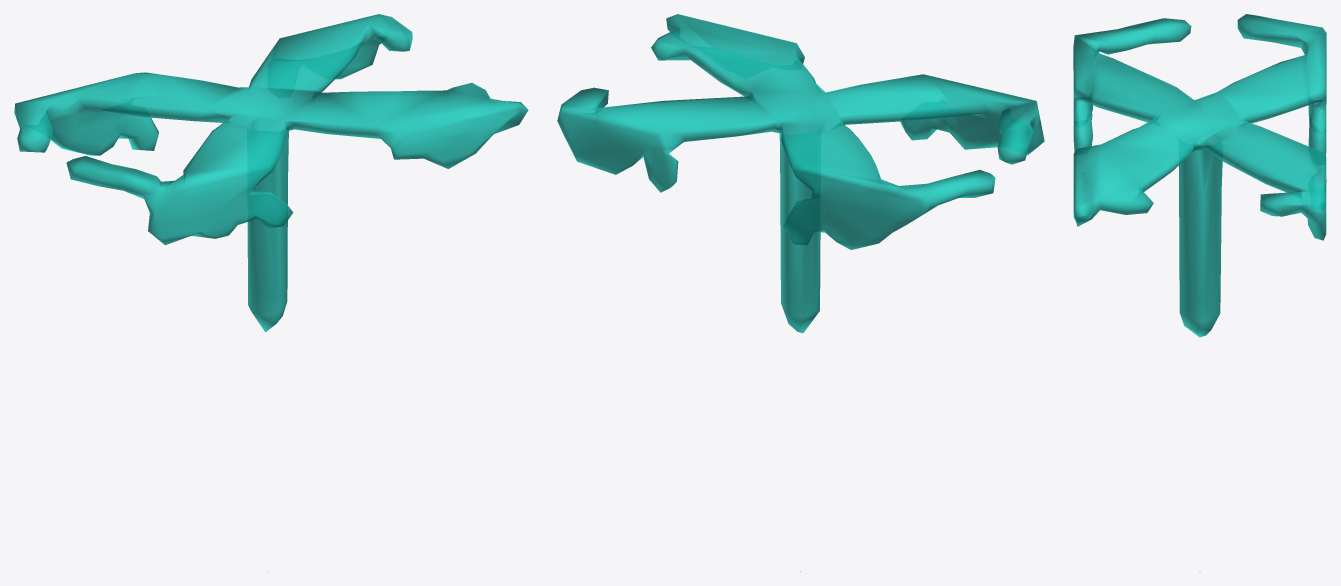
3 renders of one model, left to right at view 1: azimuth 30°, elevation 25°; view 2: azimuth 150°, elevation 25°; view 3: azimuth 270°, elevation 25°, orthographic. The views are drawn at different scales.
Parts seen in each view (by area): view 1: Liquid_Domain; view 2: Liquid_Domain; view 3: Liquid_Domain.
Boxes of the visible parts, x1,y1,x2,y2 form: Liquid_Domain: (14,14,528,332); Liquid_Domain: (557,14,1044,333); Liquid_Domain: (1073,14,1326,337).
Bounding box in the file's own units: 1417 × 1518 × 765.
